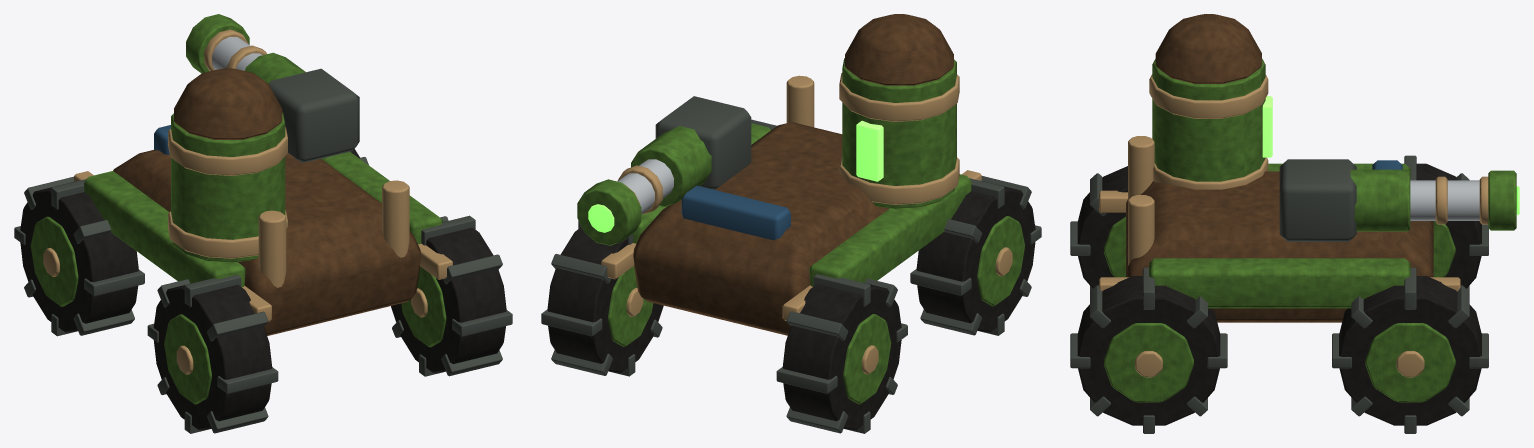
File: vael_saboteur.gltf
3 views of the same model, side by side, from view 1: azimuth 30°, elevation 25°; view 2: azimuth 150°, elevation 25°; view 3: azimuth 270°, elevation 25° (orthographic). The views are drawn at different scales.
Parts seen in each view (by area): view 1: Root.025_Geometry, Wheel_-0.6554999999999999_-0.005_Geometry, Wheel_-0.6554999999999999_0.005_Geometry, Wheel_0.6554999999999999_-0.005_Geometry, GunPitch.009_Geometry, GunRecoil.006_Geometry; view 2: Root.025_Geometry, Wheel_-0.6554999999999999_0.005_Geometry, Wheel_-0.6554999999999999_-0.005_Geometry, Wheel_0.6554999999999999_0.005_Geometry, GunRecoil.006_Geometry, GunPitch.009_Geometry; view 3: Root.025_Geometry, Wheel_0.6554999999999999_-0.005_Geometry, Wheel_0.6554999999999999_0.005_Geometry, GunRecoil.006_Geometry, GunPitch.009_Geometry, Wheel_-0.6554999999999999_-0.005_Geometry, Wheel_-0.6554999999999999_0.005_Geometry.
Part boxes in pixels (left/top/right/bottom): Root.025_Geometry: left=74, top=68, right=452, bottom=335; Wheel_-0.6554999999999999_-0.005_Geometry: left=147, top=274, right=278, bottom=433; Wheel_-0.6554999999999999_0.005_Geometry: left=14, top=176, right=144, bottom=336; Wheel_0.6554999999999999_-0.005_Geometry: left=391, top=215, right=512, bottom=376; GunPitch.009_Geometry: left=268, top=68, right=359, bottom=163; GunRecoil.006_Geometry: left=186, top=14, right=305, bottom=83; Root.025_Geometry: left=601, top=14, right=981, bottom=335; Wheel_-0.6554999999999999_0.005_Geometry: left=776, top=274, right=907, bottom=433; Wheel_-0.6554999999999999_-0.005_Geometry: left=910, top=176, right=1041, bottom=335; Wheel_0.6554999999999999_0.005_Geometry: left=541, top=220, right=663, bottom=376; GunRecoil.006_Geometry: left=577, top=126, right=711, bottom=245; GunPitch.009_Geometry: left=655, top=96, right=751, bottom=189; Root.025_Geometry: left=1099, top=14, right=1460, bottom=322; Wheel_0.6554999999999999_-0.005_Geometry: left=1070, top=267, right=1227, bottom=433; Wheel_0.6554999999999999_0.005_Geometry: left=1332, top=267, right=1488, bottom=433; GunRecoil.006_Geometry: left=1350, top=169, right=1519, bottom=231; GunPitch.009_Geometry: left=1279, top=159, right=1356, bottom=241; Wheel_-0.6554999999999999_-0.005_Geometry: left=1070, top=166, right=1127, bottom=291; Wheel_-0.6554999999999999_0.005_Geometry: left=1404, top=155, right=1488, bottom=291.
Size of the model in its own units: 1.65 by 1.7 by 2.22.
Materials: 8 (3 with a texture image).
